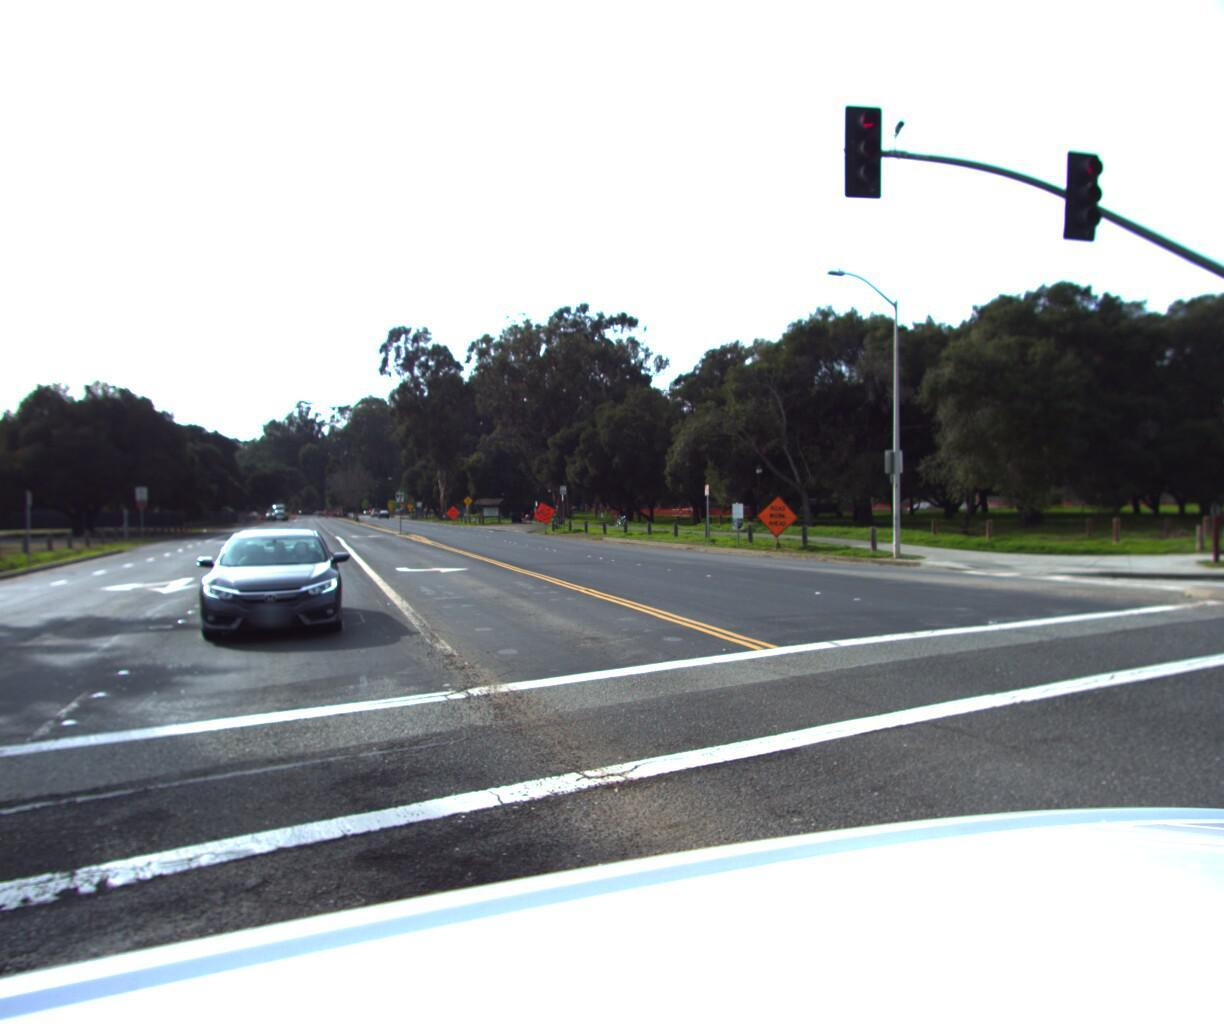car: (184, 522, 363, 652)
